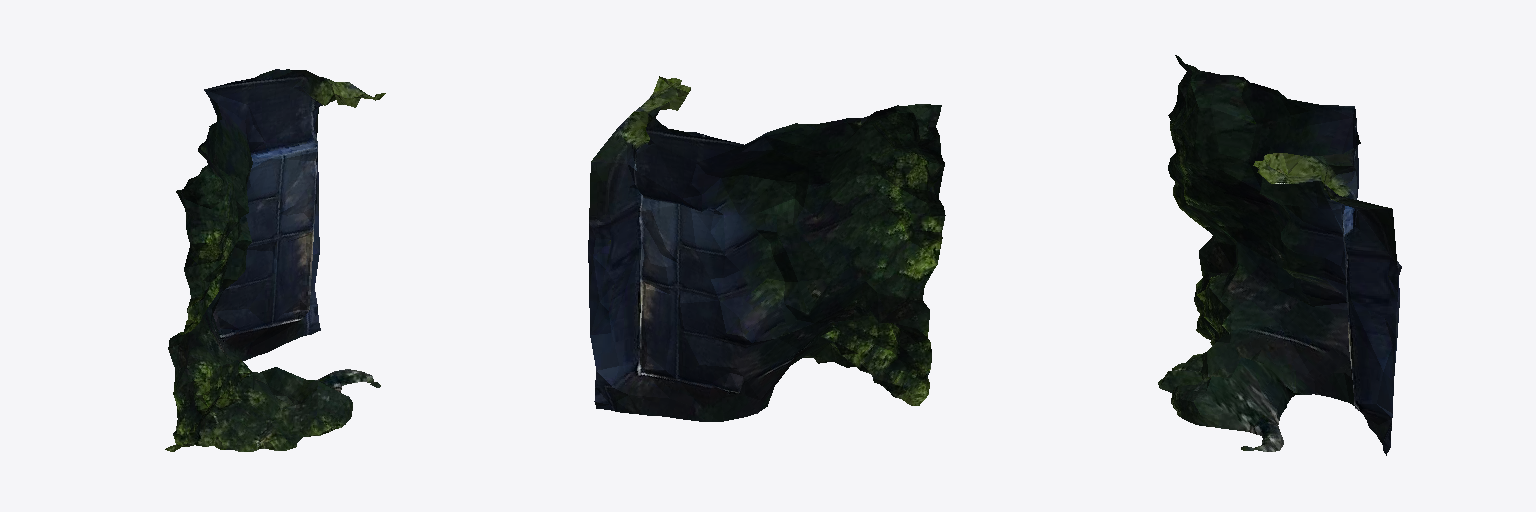
The picture shows the model from 3 angles: view 1: azimuth 30°, elevation 25°; view 2: azimuth 150°, elevation 25°; view 3: azimuth 270°, elevation 25°; orthographic projection.
Parts seen in each view (by area): view 1: obj_0; view 2: obj_0; view 3: obj_0.
Boxes of the visible parts, x1=… form: obj_0: x1=165, y1=69, x2=385, y2=451; obj_0: x1=588, y1=76, x2=945, y2=421; obj_0: x1=1158, y1=55, x2=1401, y2=455.
Size of the model in its own units: 20.09 by 22.53 by 17.55.
1 materials, 1 textured.